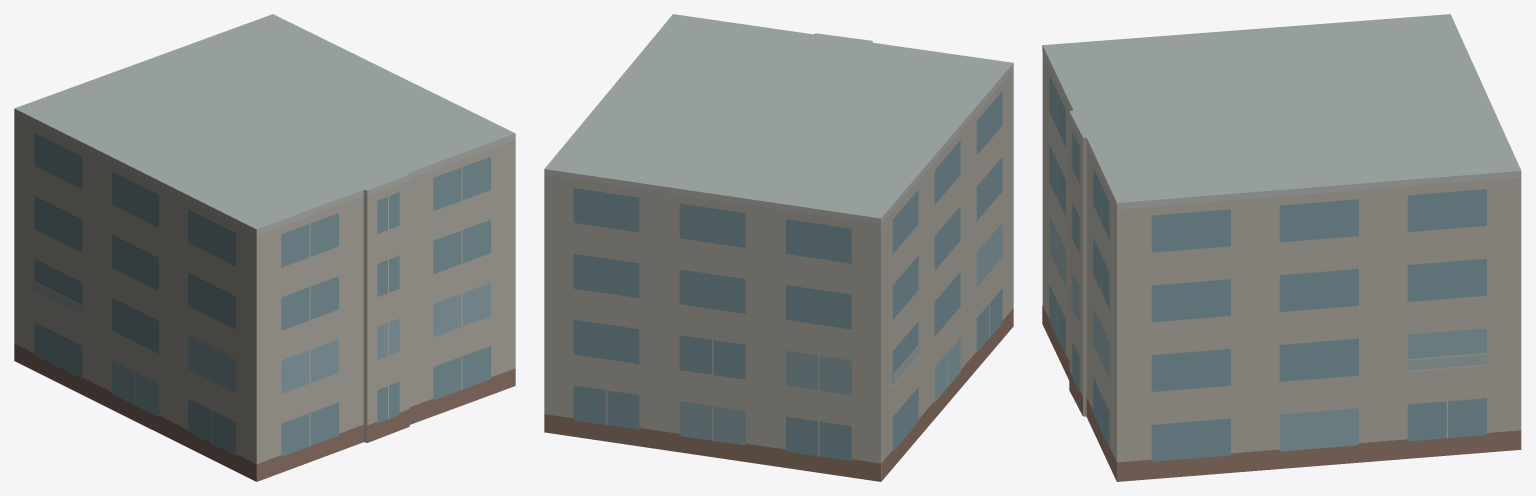
The model's file is survey-upis-32944229.glb.
The picture shows the model from 3 angles, left to right: view 1: azimuth 30°, elevation 25°; view 2: azimuth 150°, elevation 25°; view 3: azimuth 270°, elevation 25°; orthographic projection. The views are drawn at different scales.
Visible parts, largest first — view 1: survey-upis-32944229.tmp; view 2: survey-upis-32944229.tmp; view 3: survey-upis-32944229.tmp.
Part boxes in pixels (left/top/right/bottom): survey-upis-32944229.tmp: left=14, top=14, right=515, bottom=481; survey-upis-32944229.tmp: left=544, top=14, right=1013, bottom=481; survey-upis-32944229.tmp: left=1042, top=14, right=1521, bottom=481.
Size of the model in its own units: 15.12 by 10.4 by 16.2.
